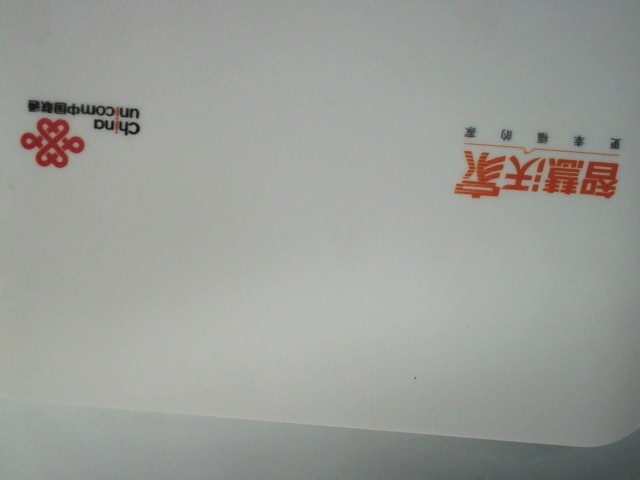ChinaUnicom1: (13, 89, 144, 174)
